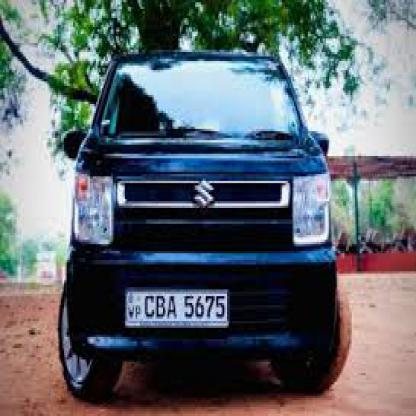car: (60, 38, 354, 405)
